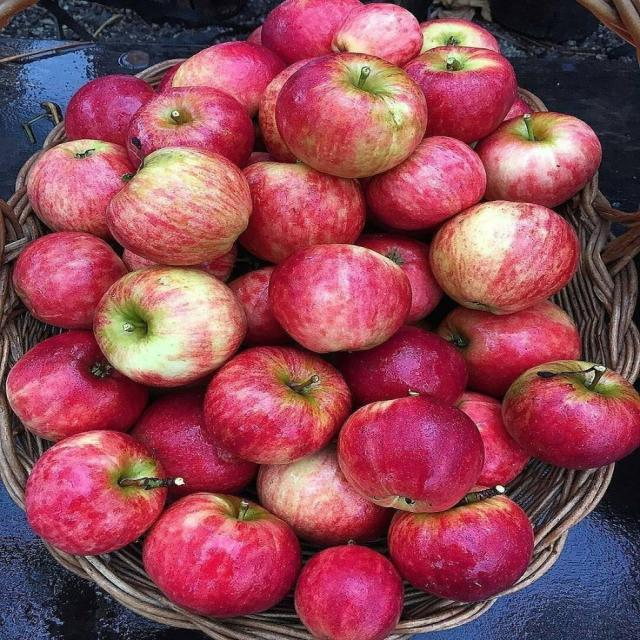apple: (143, 493, 300, 617), (25, 431, 182, 555), (276, 53, 426, 178), (94, 267, 246, 386), (205, 347, 351, 464), (338, 394, 484, 511), (107, 148, 251, 265), (431, 202, 579, 313), (7, 331, 147, 441), (388, 496, 533, 601), (269, 245, 411, 352), (503, 361, 639, 469), (437, 300, 581, 397), (258, 444, 393, 546), (131, 389, 256, 496), (239, 163, 365, 262), (475, 112, 601, 207), (367, 136, 486, 230), (13, 232, 126, 329), (405, 46, 517, 142), (335, 325, 467, 405), (27, 140, 133, 239), (295, 544, 403, 639), (127, 87, 253, 166), (173, 42, 285, 116), (357, 234, 442, 323), (457, 393, 529, 490), (65, 75, 155, 146), (261, 0, 360, 64), (333, 3, 423, 66), (259, 60, 310, 162), (229, 267, 291, 346), (420, 19, 499, 53), (192, 244, 238, 281), (157, 64, 179, 93), (505, 98, 531, 120), (245, 151, 274, 167), (246, 26, 261, 45)
